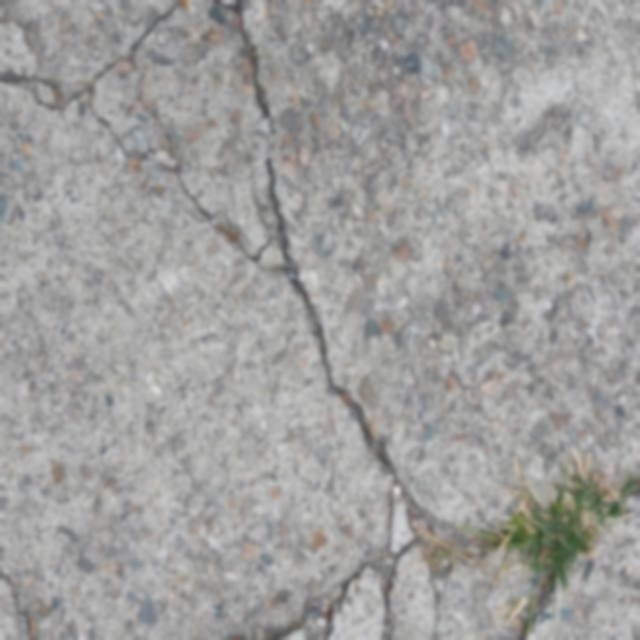SurfaceCrack: (9, 1, 498, 640)
